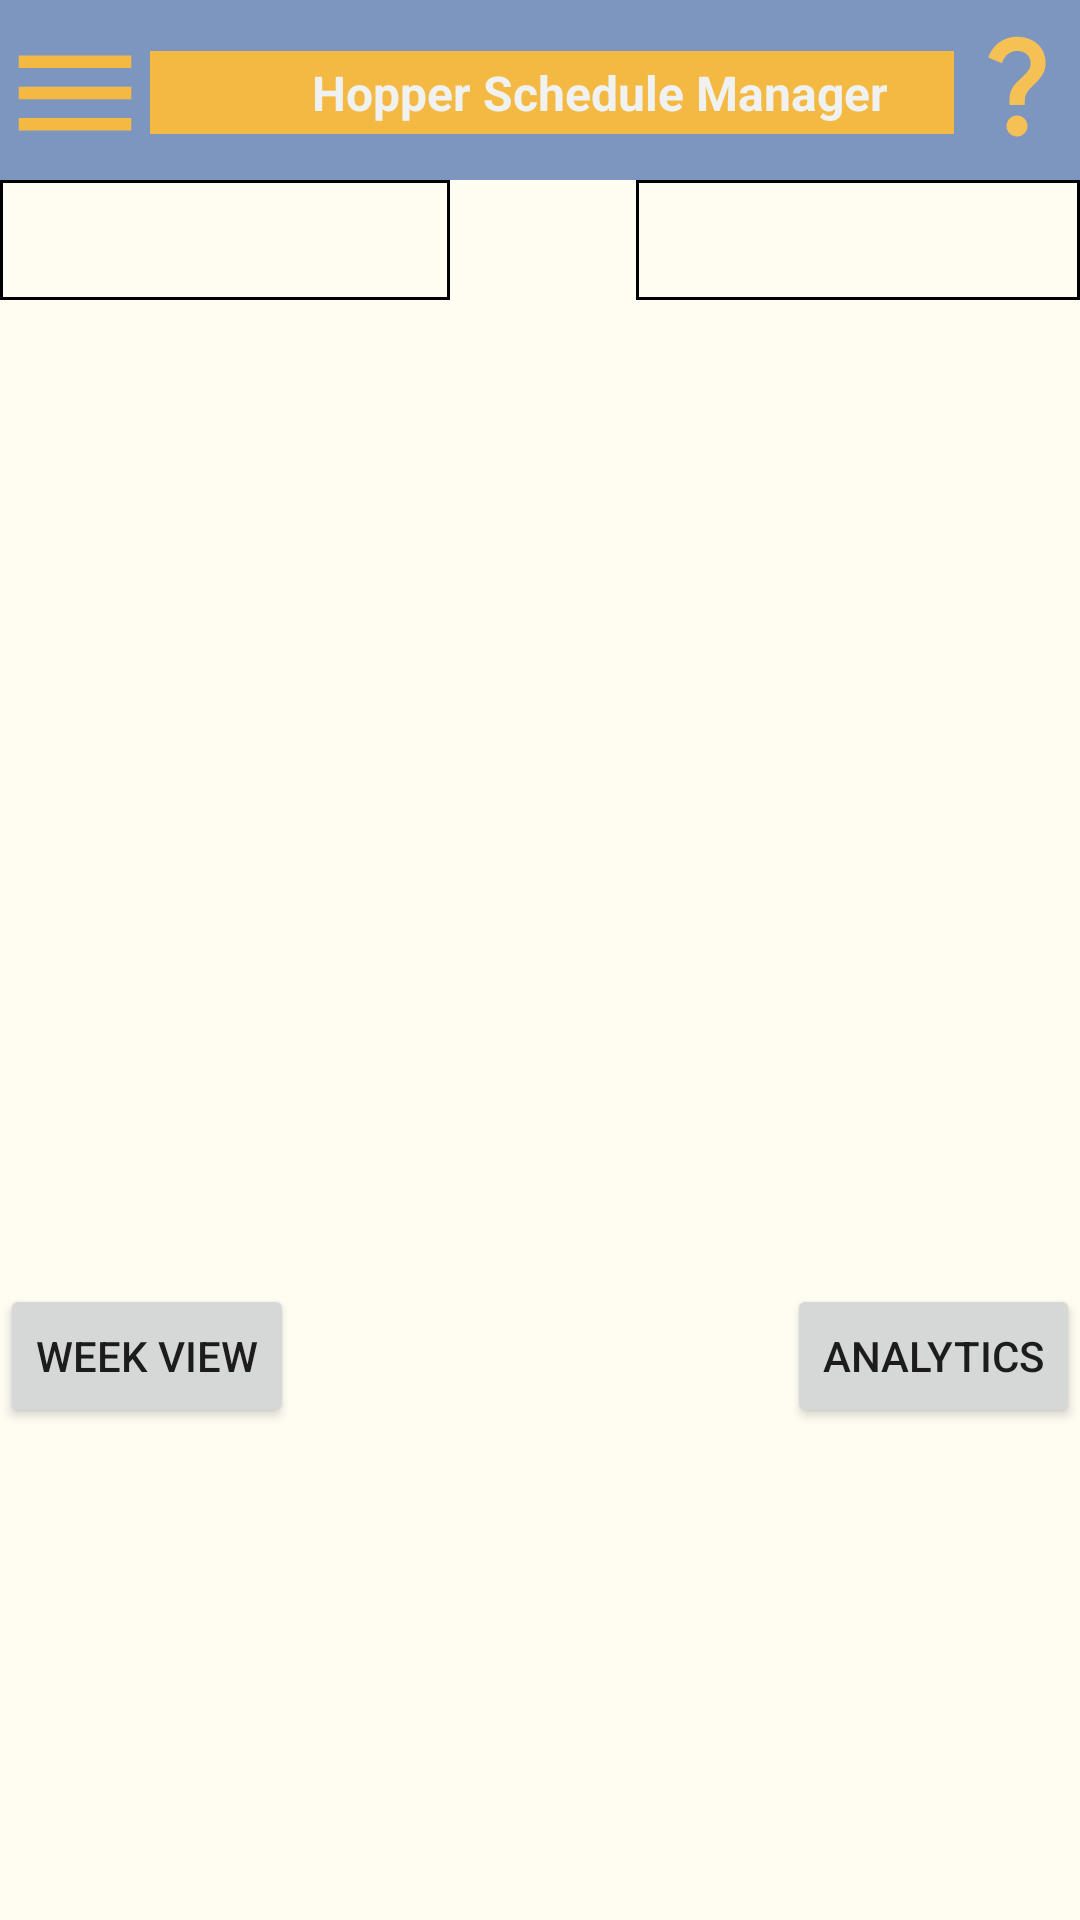

Named icons in this screenshot (1080x1920) and their centers, (x=x, y=y):
menu: (x=75, y=93)
question mark: (x=1017, y=86)
